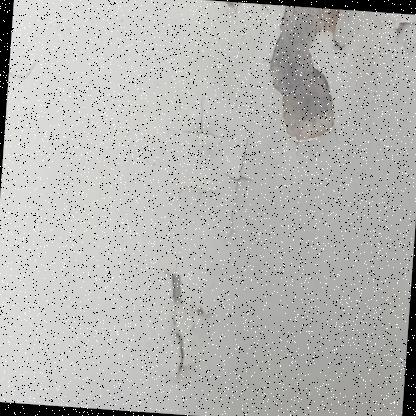Crack: (253, 3, 377, 162), (166, 68, 267, 238), (139, 244, 238, 402), (206, 0, 300, 46), (6, 17, 50, 113), (385, 12, 415, 72)
